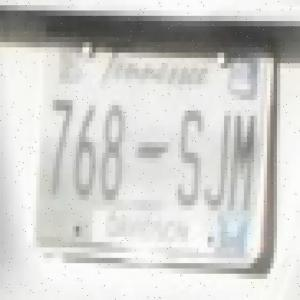Plate: (30, 16, 270, 275)
